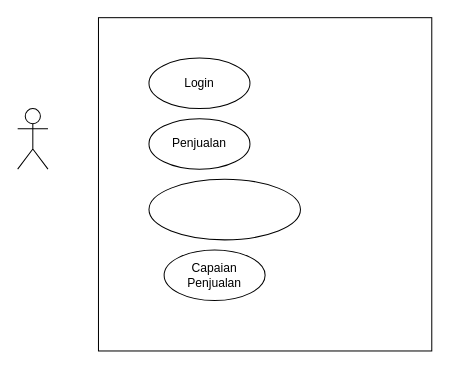
Image size: 449x369. Some labels were removed from this diagram. The shapes that lost their labels are listed below. From the top down, each one's centre as x and y in pixels, then its label:
[32,138]: Actor
[224,209]: Penjualan Per Tahun
